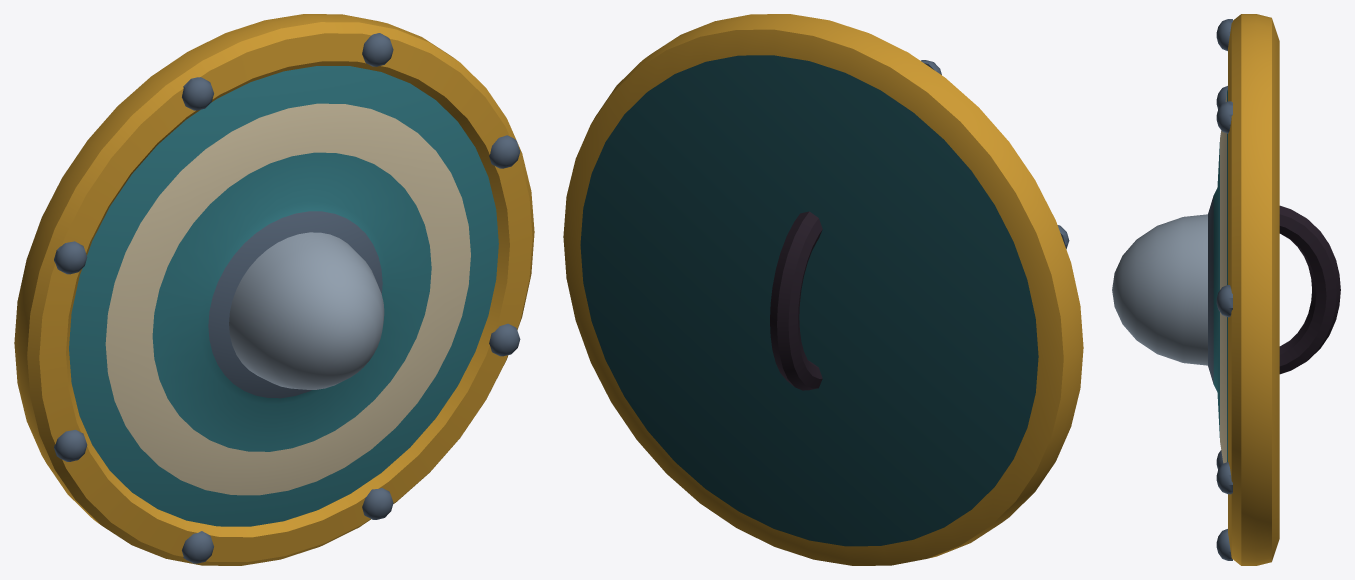
Rendered from RoundShield_10.glb.
3 renders of one model, left to right at view 1: azimuth 30°, elevation 25°; view 2: azimuth 150°, elevation 25°; view 3: azimuth 270°, elevation 25°, orthographic. The views are drawn at different scales.
Visible parts, largest first — view 1: RoundShield_10; view 2: RoundShield_10; view 3: RoundShield_10.
Boxes of the visible parts, x1,y1,x2,y2 form: RoundShield_10: [14, 14, 534, 565]; RoundShield_10: [563, 14, 1083, 565]; RoundShield_10: [1112, 14, 1340, 565].
Size of the model in its own units: 2.88 by 2.88 by 1.19.
